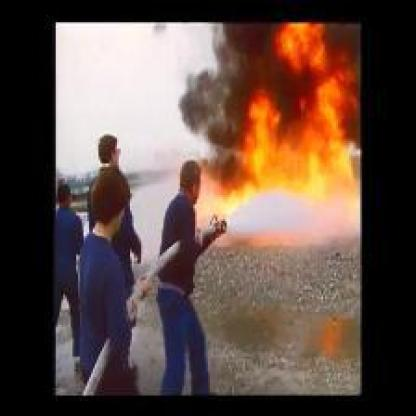fire: (219, 28, 356, 236)
smoke: (168, 25, 296, 152)
